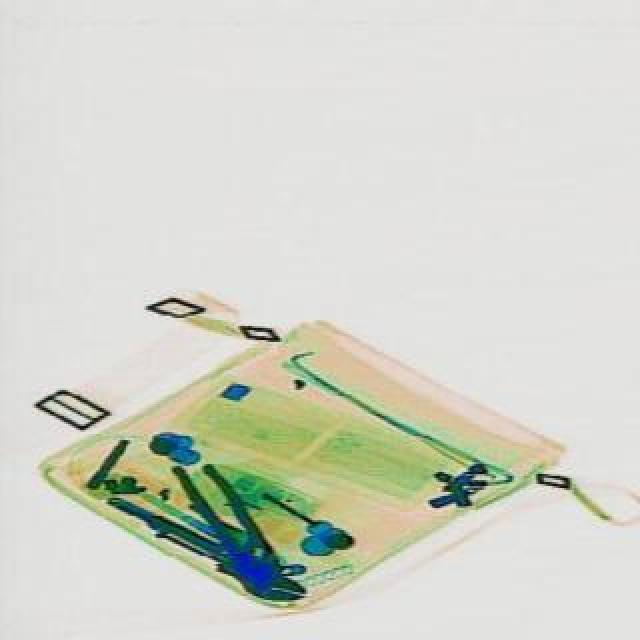wrench: (164, 446, 292, 602)
